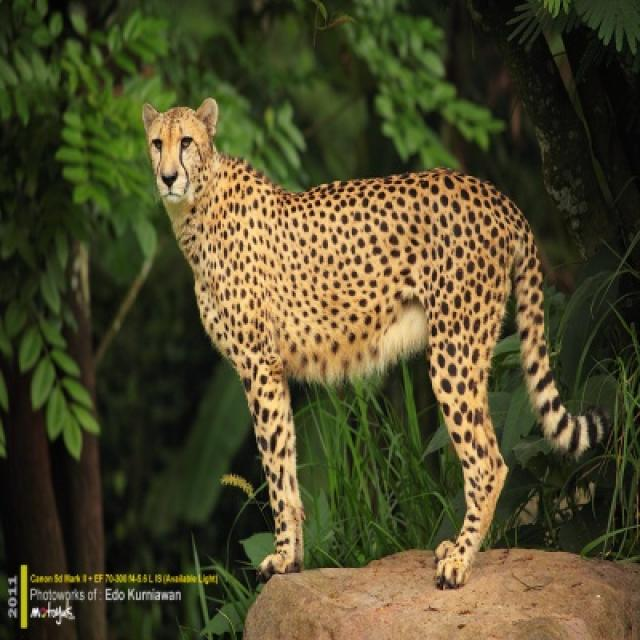Cheetah: (142, 99, 586, 589)
